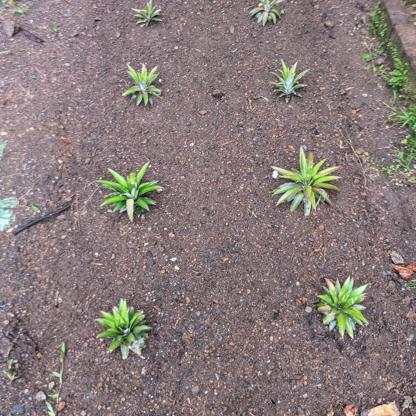pineapple: (268, 146, 343, 221), (96, 159, 165, 223), (95, 297, 154, 364), (317, 273, 371, 342), (121, 59, 164, 111), (269, 58, 312, 107), (246, 1, 288, 28), (131, 1, 167, 31)
